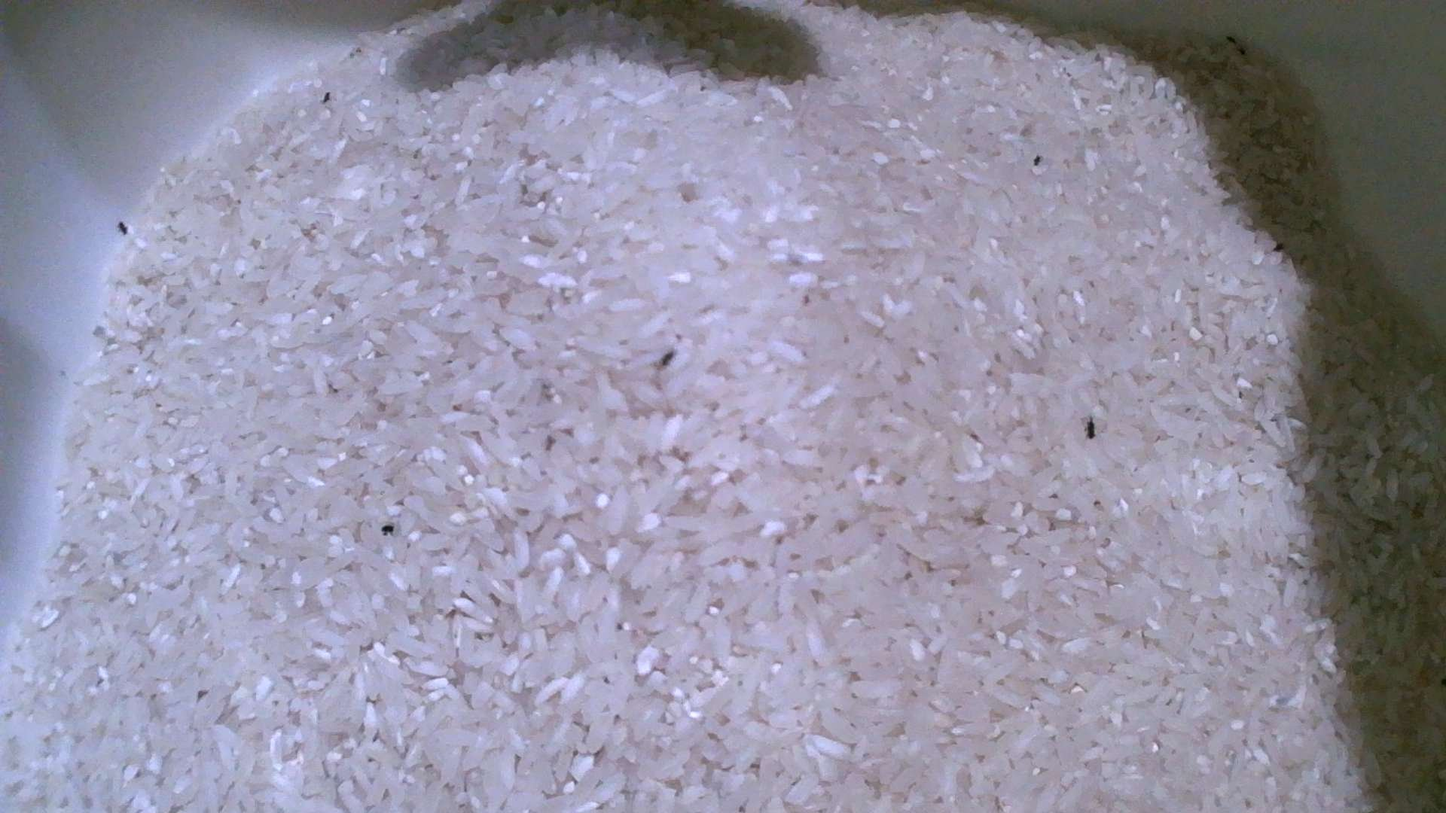Sitophilus-Oryzae: (656, 349, 676, 369), (1086, 417, 1095, 439), (117, 221, 128, 234)
